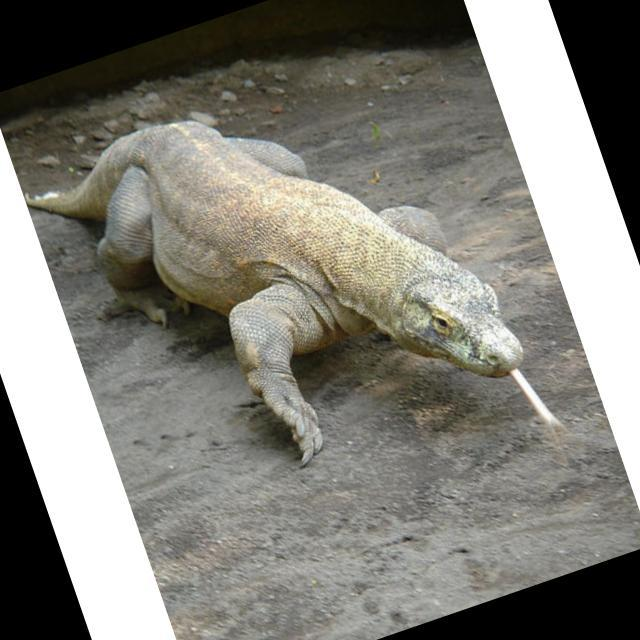KomodoDragon: (21, 26, 586, 599)
